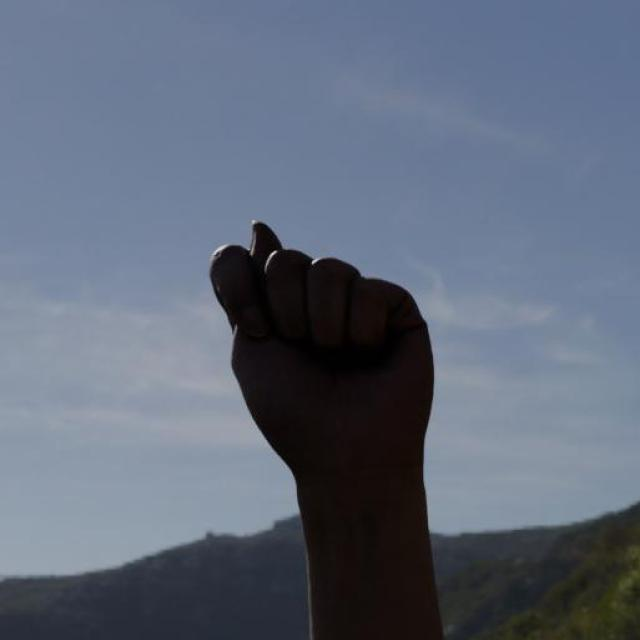T: (202, 213, 440, 481)
